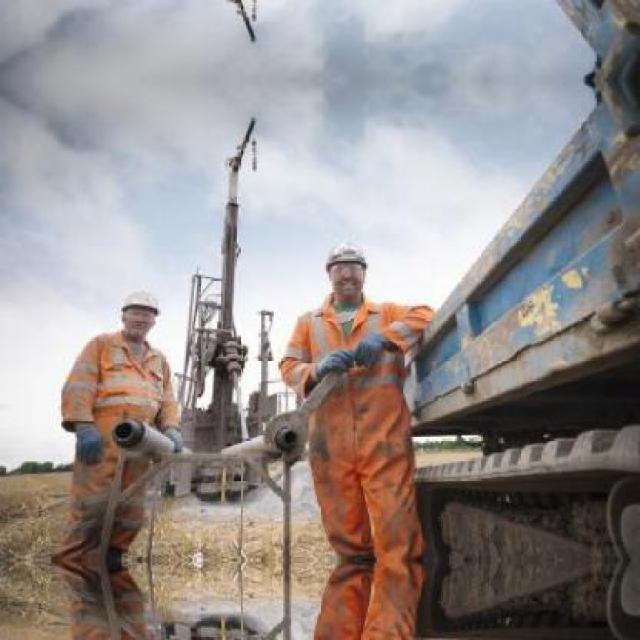Reflective-Jacket: (289, 294, 426, 518), (63, 332, 182, 454)
Safety-Helmet: (314, 234, 377, 277), (109, 280, 168, 323)
